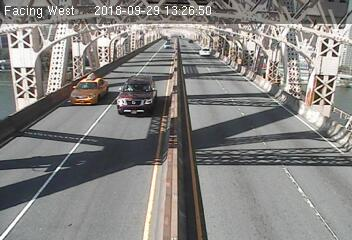car: (117, 74, 160, 118), (71, 74, 111, 108), (199, 48, 211, 58), (163, 40, 172, 50)
